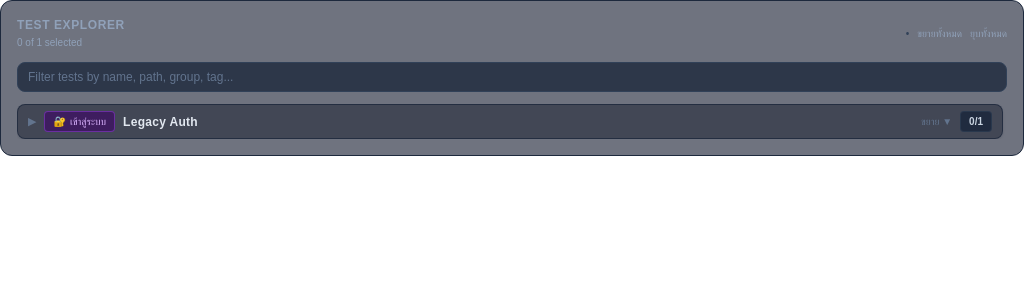
Test case: TestExplorer Component › renders legacy groups without sheet badge and falls back to group.name under ready section
The image size is (1024, 281).
Click the text "Legacy Auth" at (161, 122), box 123,114 -> 198,130
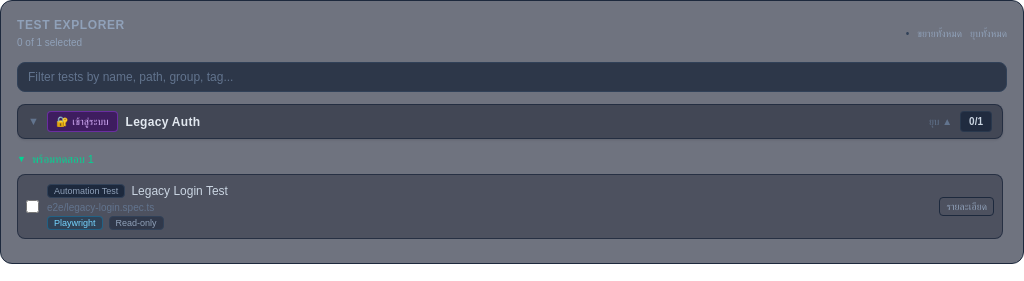
Expected: the text "พร้อมทดสอบ 1" is shown, 32,151 -> 94,168
Expected: the text "Legacy Login Test" is shown, 131,182 -> 228,198
